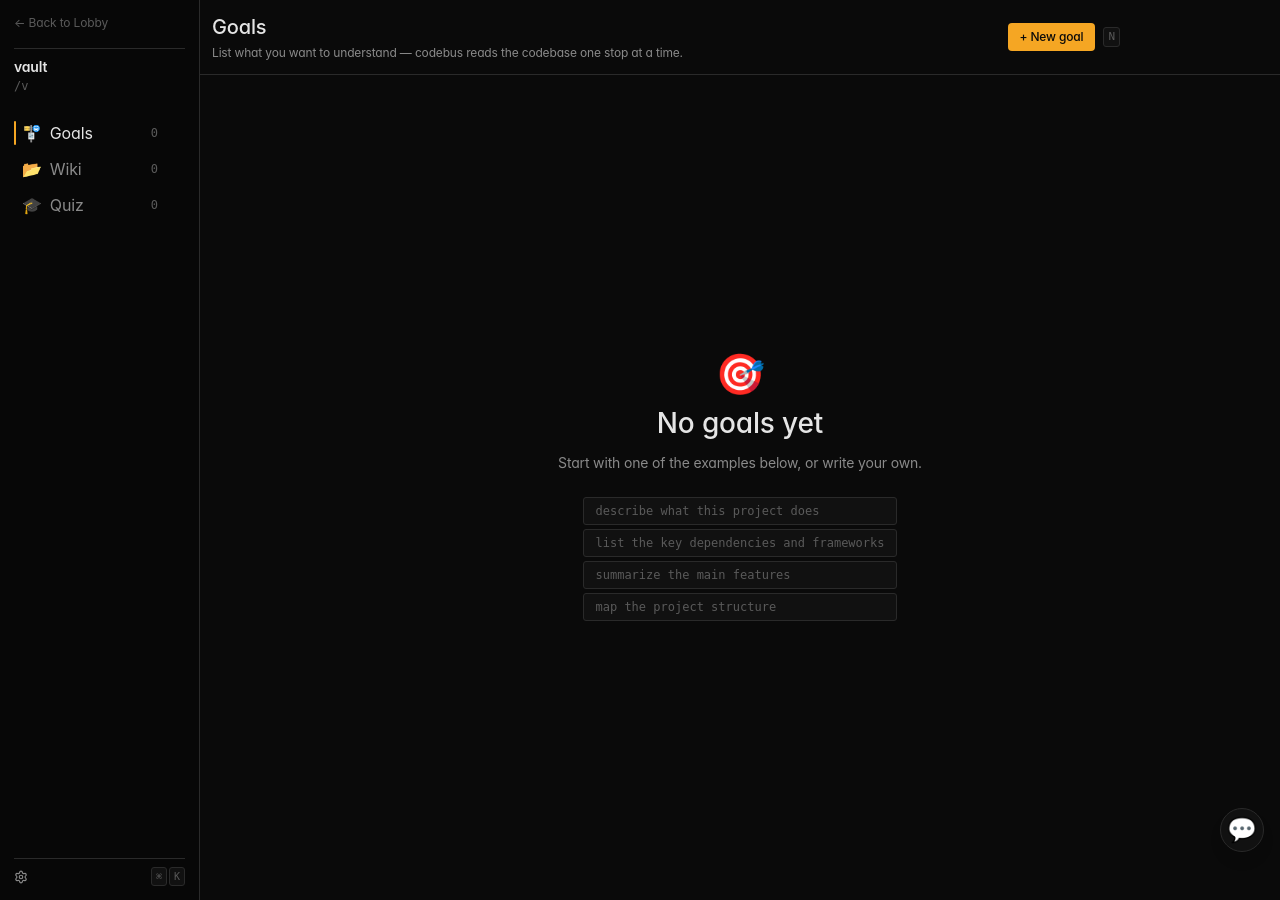
Scenario: Workspace › re-selecting the already-active Quiz tab returns to quiz history
Click the button with test id "workspace-tab-quiz": (100, 205) [14,189,185,221]
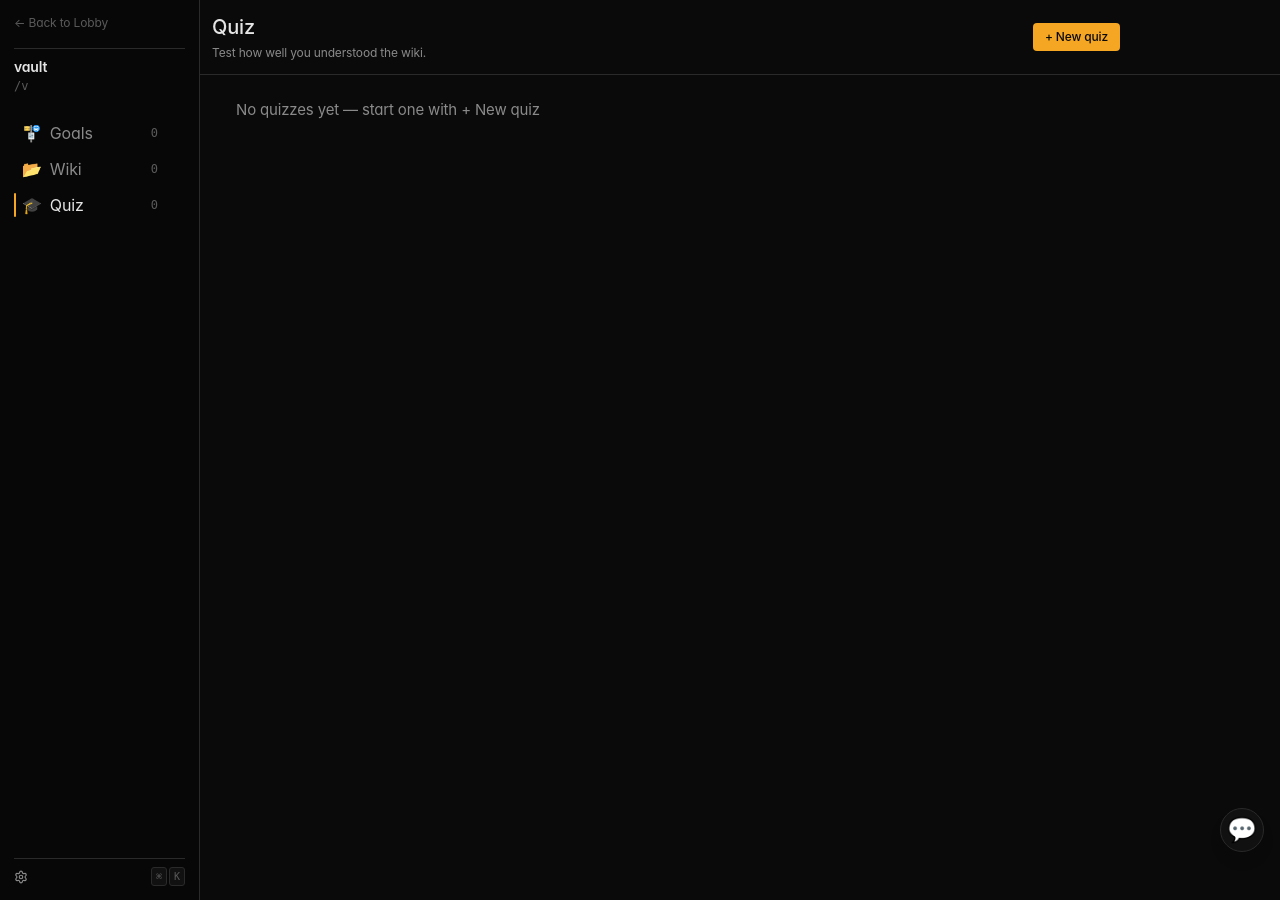
Check: the element with test id "quiz-history" is shown, box [236,100,540,119]
Click the button with test id "new-quiz": (1076, 37) [1033,23,1120,51]
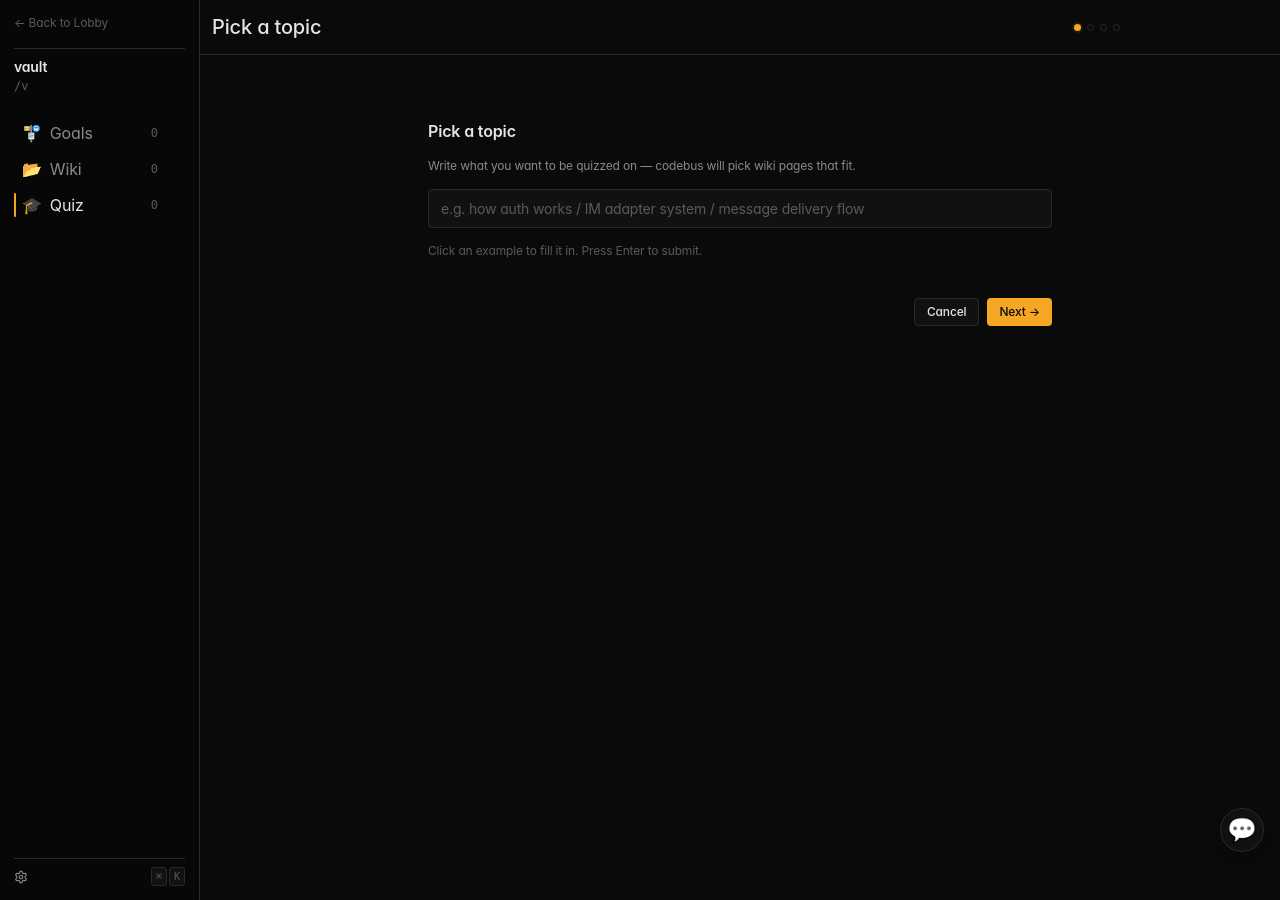
Check: the field with test id "quiz-wizard-topic-input" is shown, box [428,189,1052,228]
Check: the element with test id "quiz-history" is gone
Click the button with test id "workspace-tab-quiz": (100, 205) [14,189,185,221]
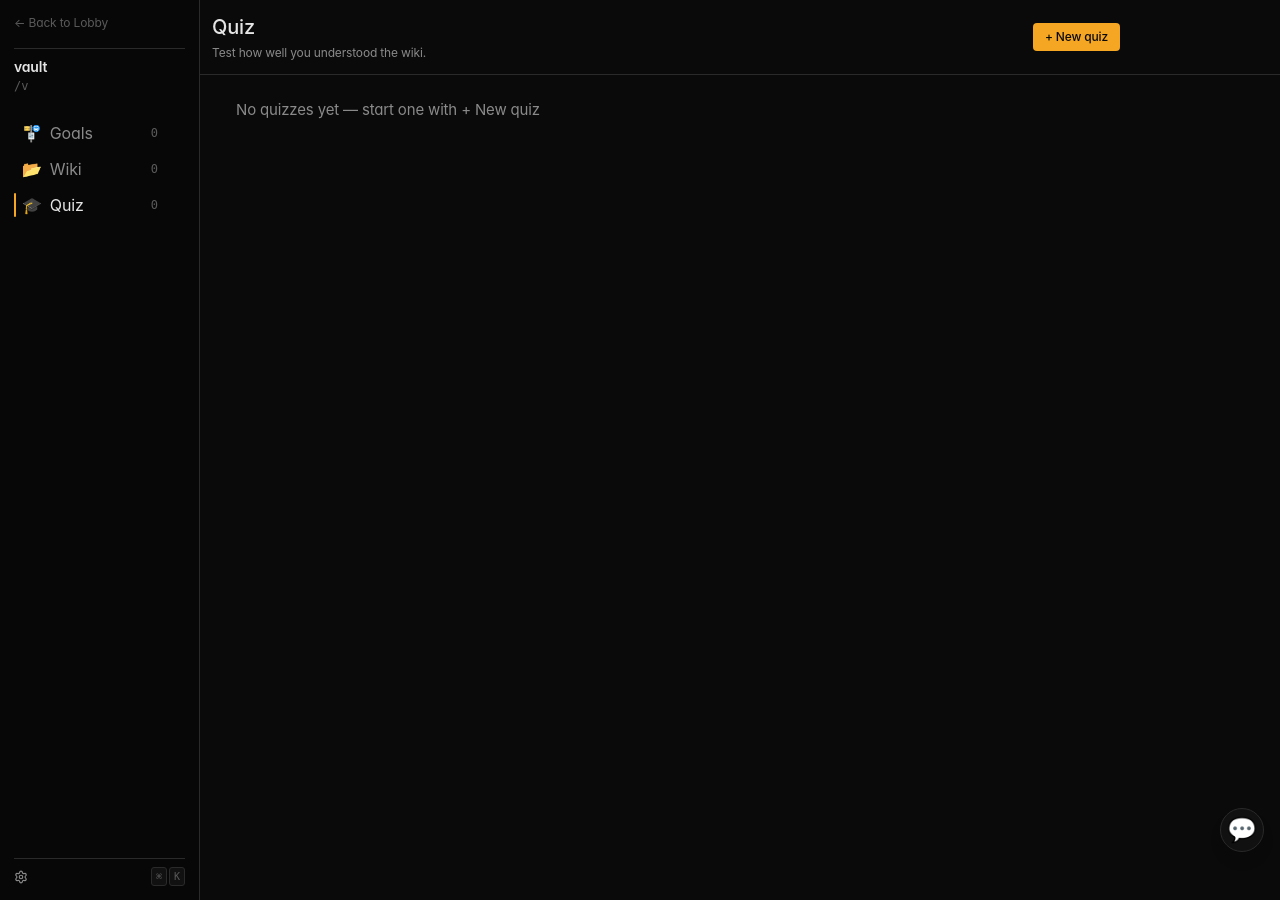
Check: the element with test id "quiz-history" is shown, box [236,100,540,119]
